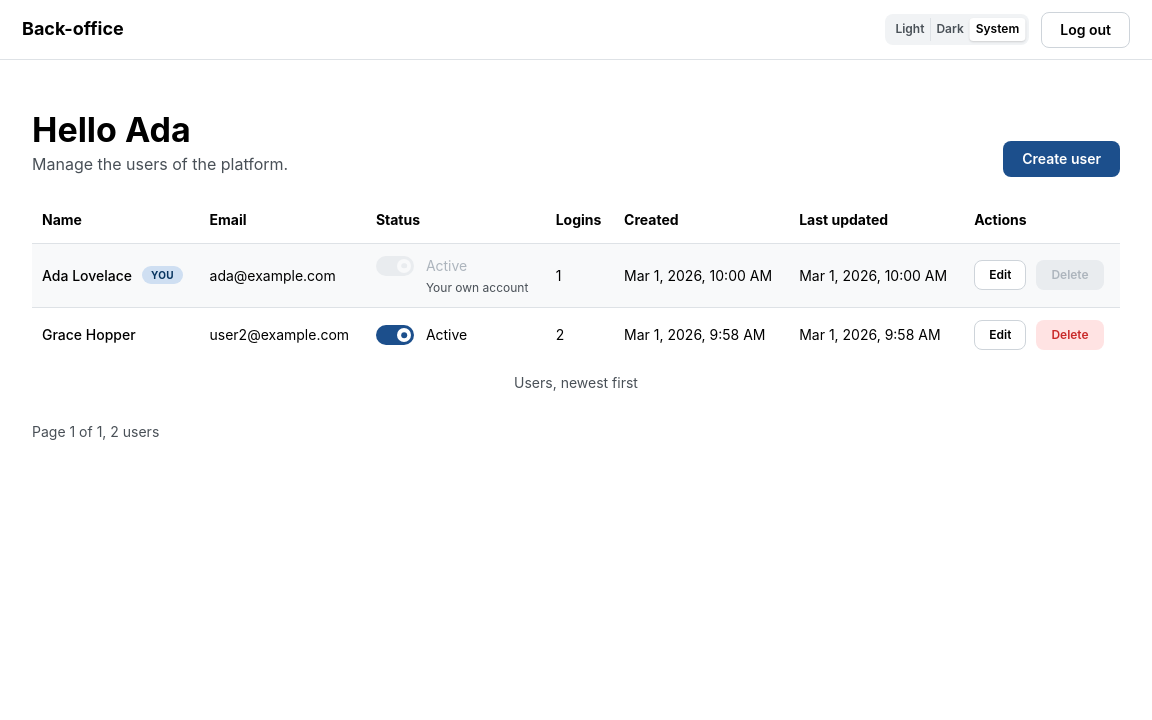
Test: dashboard: review follow-ups › DASH-62 refreshes the greeting only after editing your own name
This screenshot has width=1152, height=720.
expect the table is shown: met, box [32,197,1120,394]
Click the button with aria-label "Edit Grace Hopper": (1000,335) [974,320,1026,350]
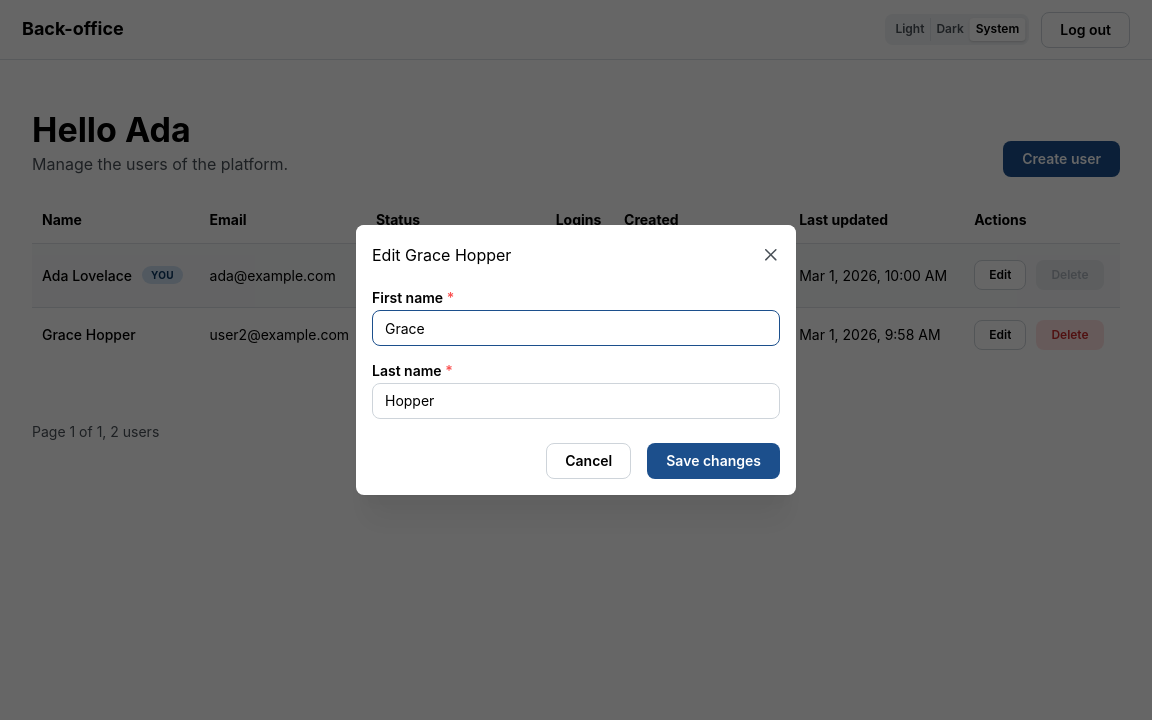
Click the button "Save changes": (714,461) [647,443,780,479]
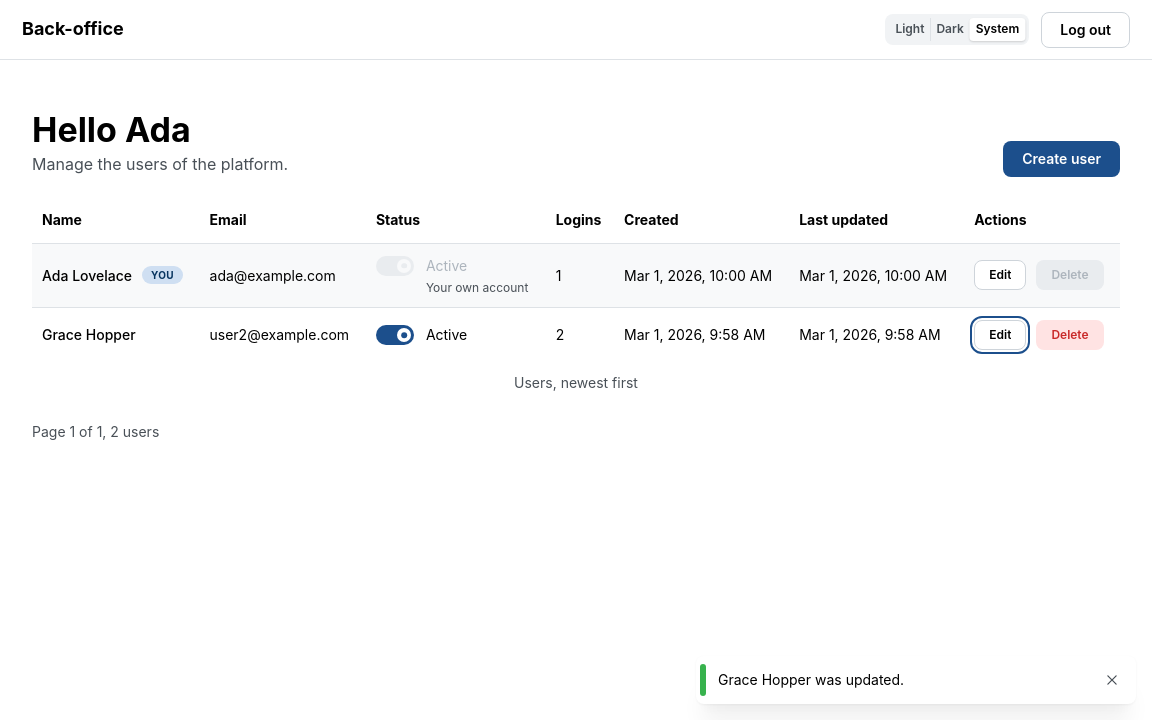
expect the text "Grace Hopper was updated." is shown: met, box [718,671,904,688]
Click the button with aria-label "Edit Ada Lovelace": (1000,275) [974,260,1026,290]
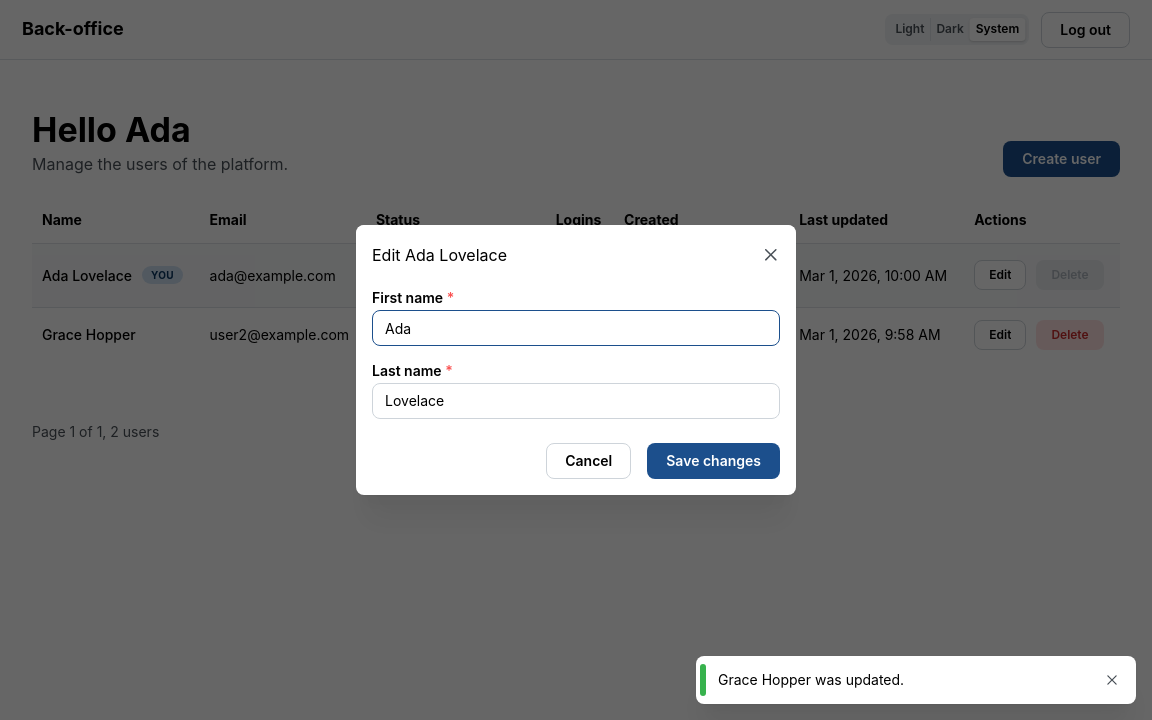
Replace the text in the field labelled "First name *" with "Augusta": (576,328) [372,310,780,346]
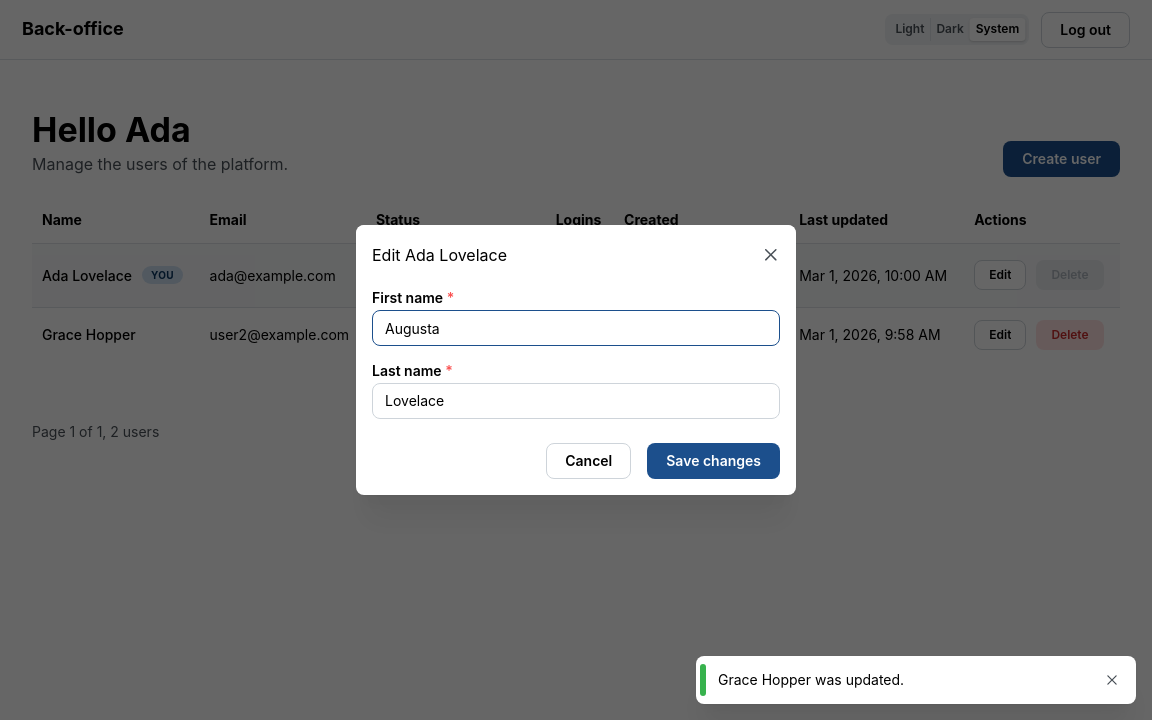
Click the button "Save changes": (714,461) [647,443,780,479]
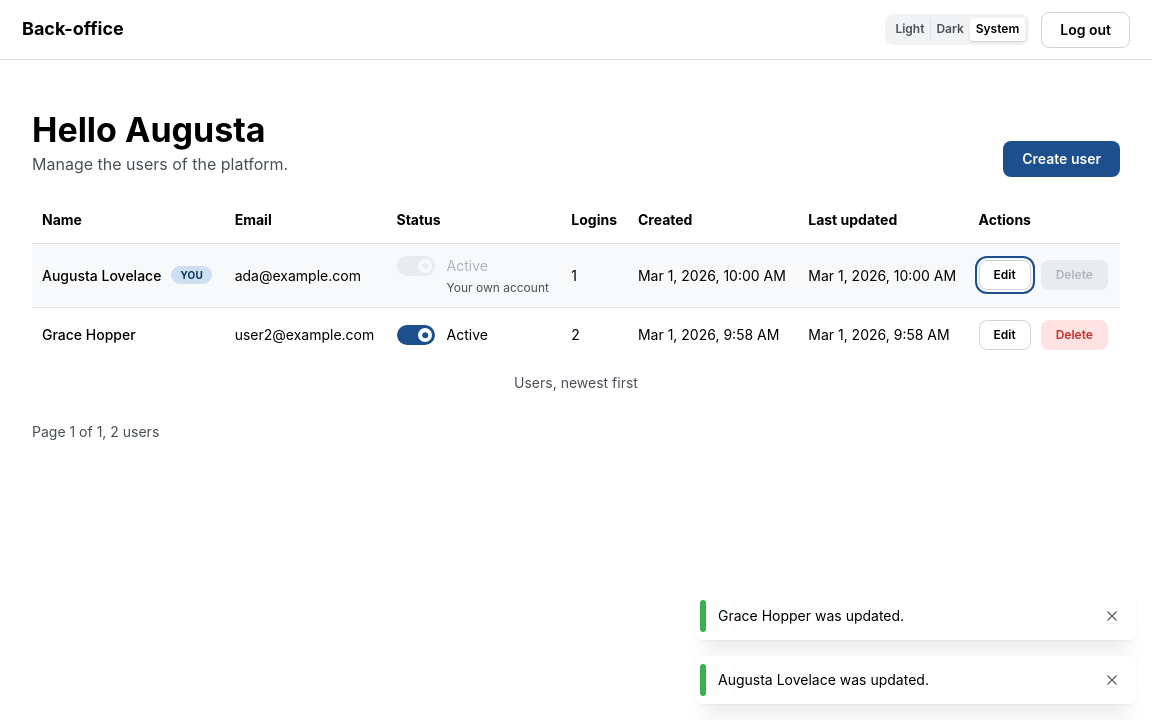
expect the heading "Hello Augusta" is shown: met, box [32,108,288,152]
